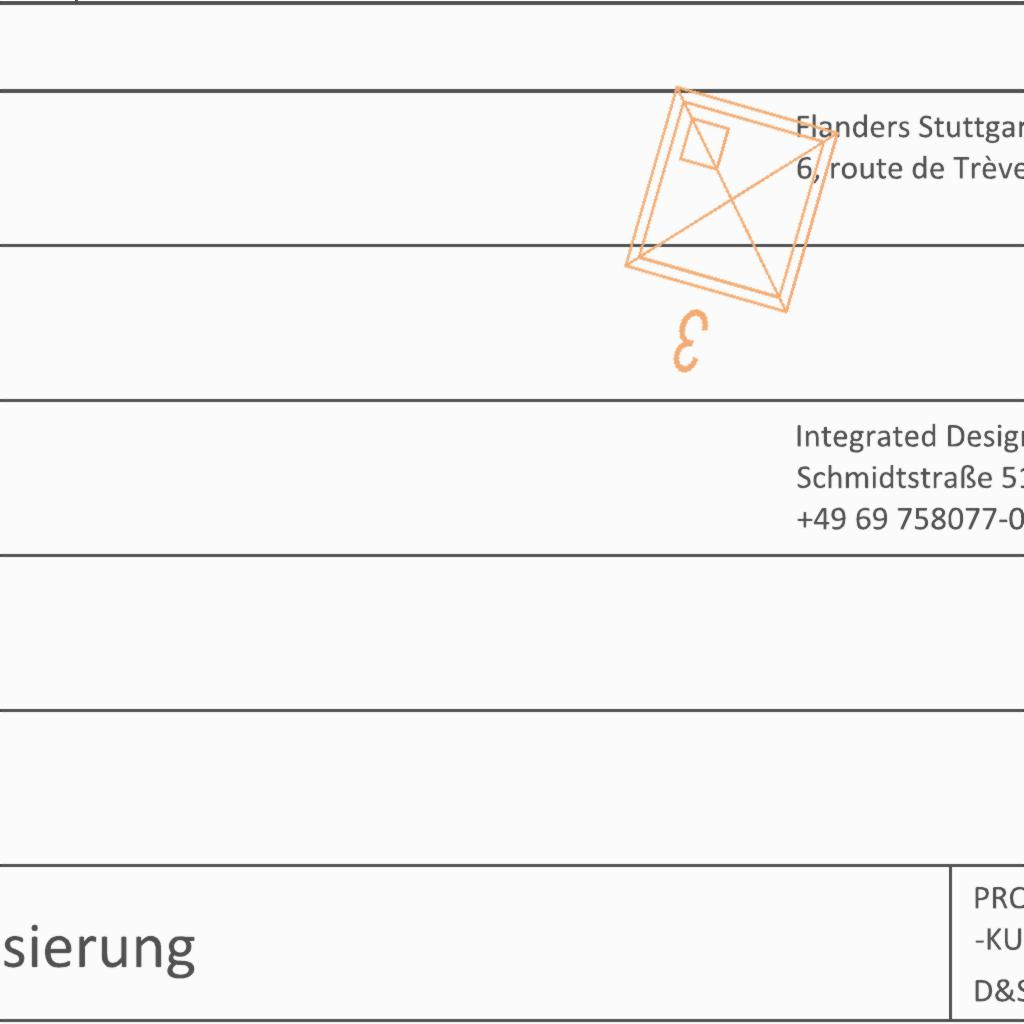Einbaudownlights_LED_Konferenzraeume: (582, 67, 866, 413)
